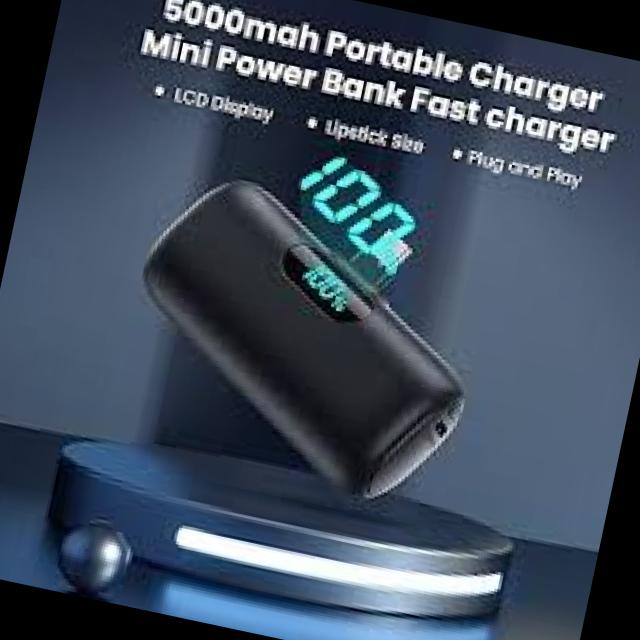portable-charger: (101, 157, 502, 531)
